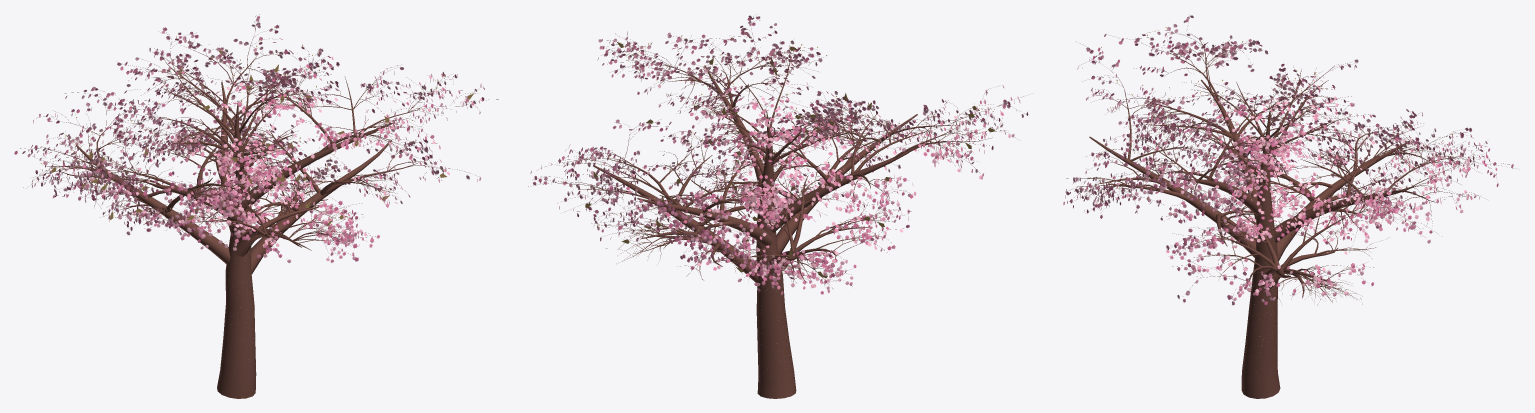
The model's file is kanzan_03.glb.
The picture shows the model from 3 angles, left to right: view 1: azimuth 30°, elevation 25°; view 2: azimuth 150°, elevation 25°; view 3: azimuth 270°, elevation 25°; orthographic projection.
Visible parts, largest first — view 1: Kanzan Bark | warm reddish brown, Kanzan Petals | pale pink, Kanzan Petals | blush, Kanzan Petals | warm pink; view 2: Kanzan Bark | warm reddish brown, Kanzan Petals | pale pink, Kanzan Petals | blush, Kanzan Petals | warm pink; view 3: Kanzan Bark | warm reddish brown, Kanzan Petals | pale pink, Kanzan Petals | blush, Kanzan Petals | warm pink, Kanzan Young leaves | bronze green.
Boxes of the visible parts, x1,y1,x2,y2 form: Kanzan Bark | warm reddish brown: [20, 14, 498, 398]; Kanzan Petals | pale pink: [27, 18, 482, 262]; Kanzan Petals | blush: [22, 16, 477, 262]; Kanzan Petals | warm pink: [14, 30, 484, 261]; Kanzan Bark | warm reddish brown: [528, 16, 1024, 398]; Kanzan Petals | pale pink: [535, 17, 1023, 289]; Kanzan Petals | blush: [530, 15, 1020, 294]; Kanzan Petals | warm pink: [538, 17, 1027, 294]; Kanzan Bark | warm reddish brown: [1066, 16, 1511, 398]; Kanzan Petals | pale pink: [1067, 15, 1512, 304]; Kanzan Petals | blush: [1065, 34, 1513, 305]; Kanzan Petals | warm pink: [1063, 19, 1498, 304]; Kanzan Young leaves | bronze green: [1074, 20, 1490, 283].
Bounding box in the file's own units: 8.3 × 6.21 × 8.01.
